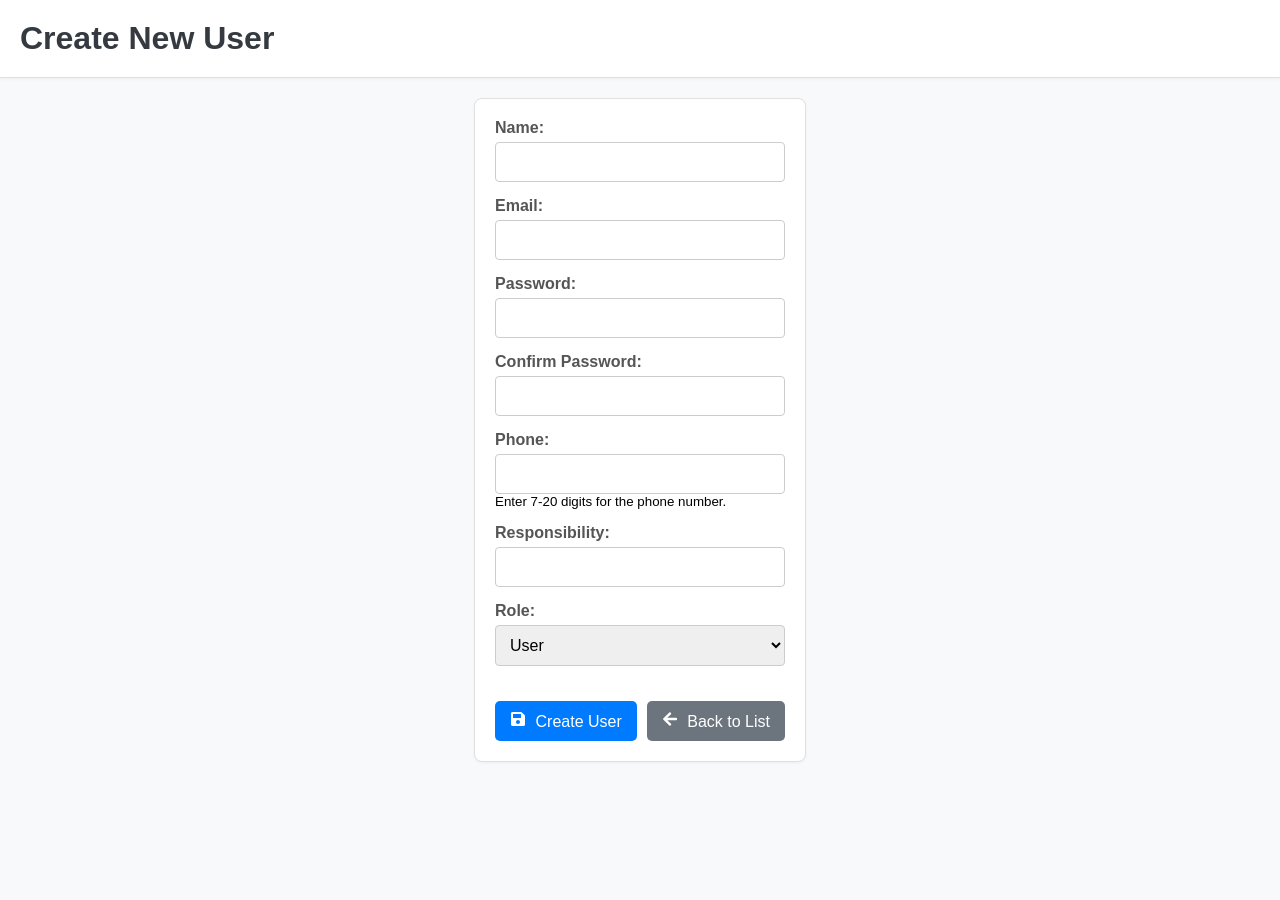
UserDetailPage › handles user creation
Type "New User" into the field labelled "Name:" at point(640, 162), box [495,142,785,182]
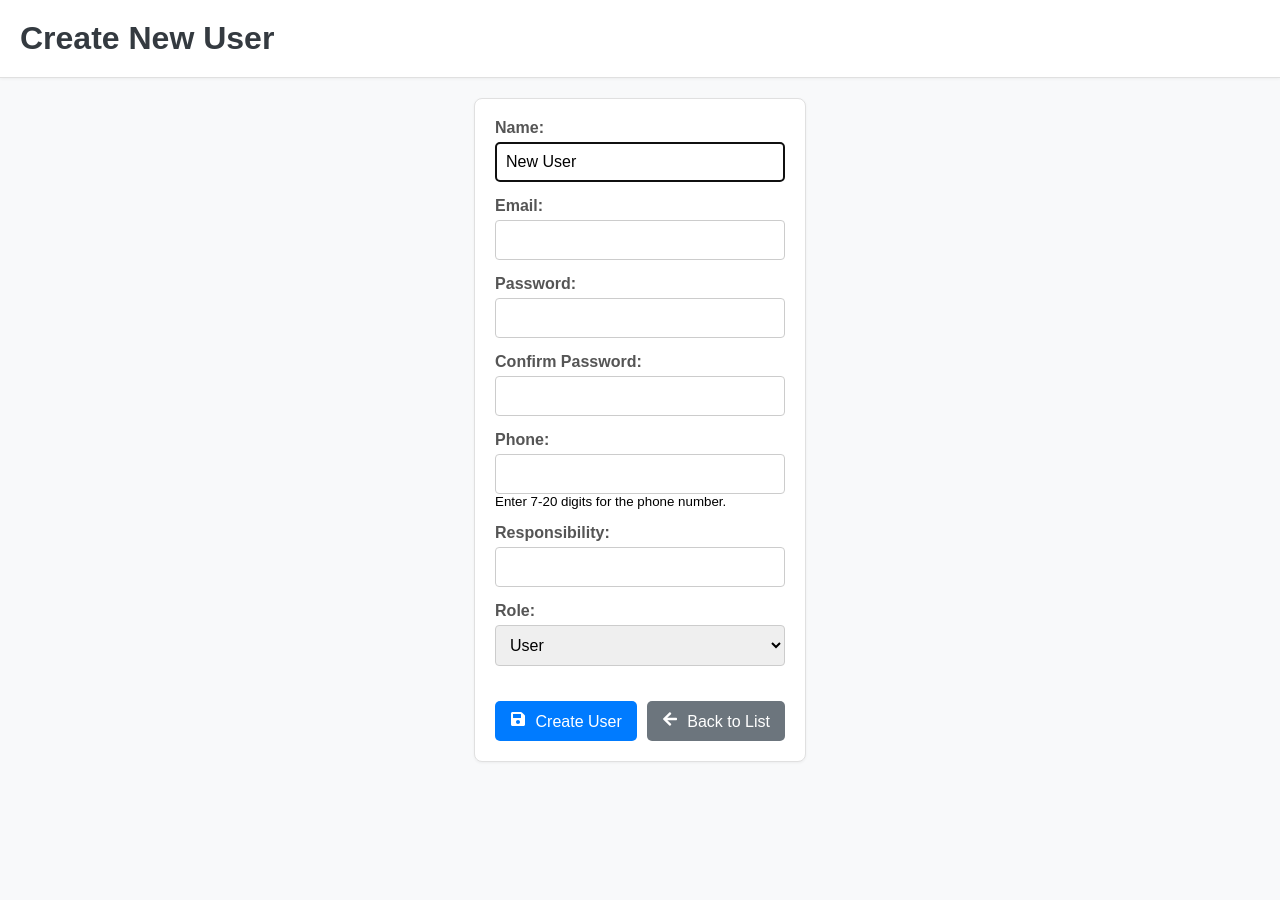
Type "new@example.com" into the field labelled "Email:" at point(640, 240), box [495,220,785,260]
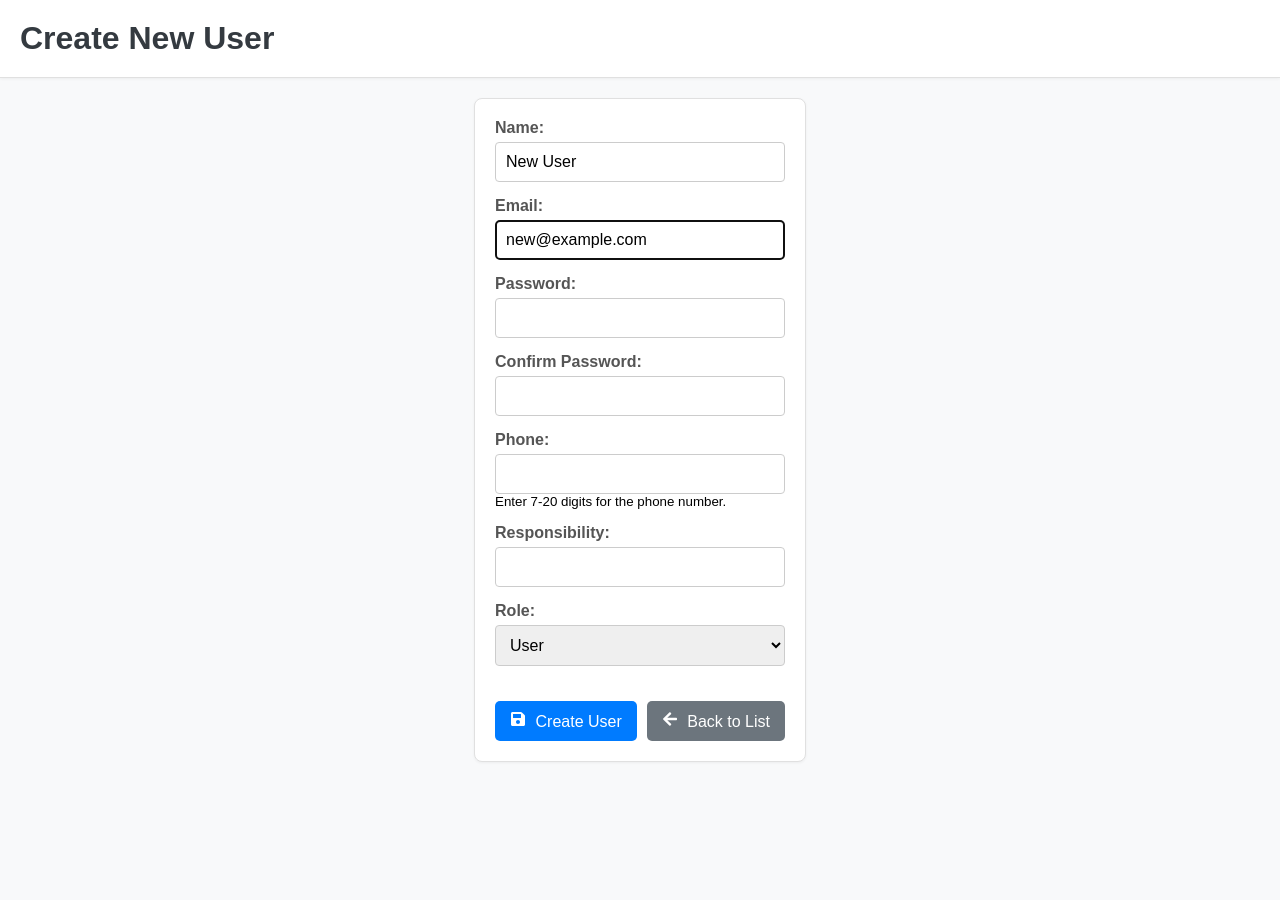
Type "password123" into the password field labelled "Password:" at point(640, 318), box [495,298,785,338]
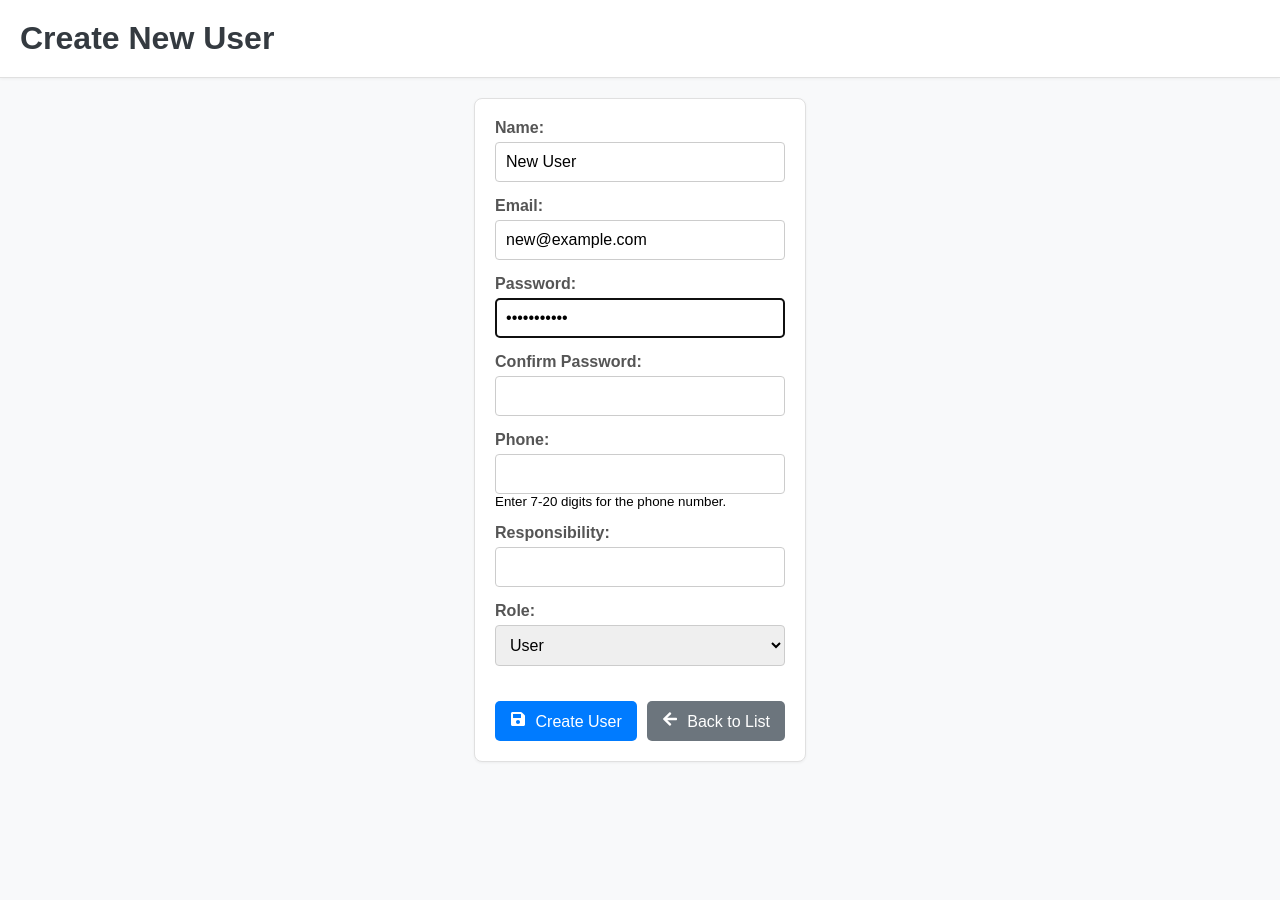
Type "password123" into the password field labelled "Confirm Password:" at point(640, 396), box [495,376,785,416]
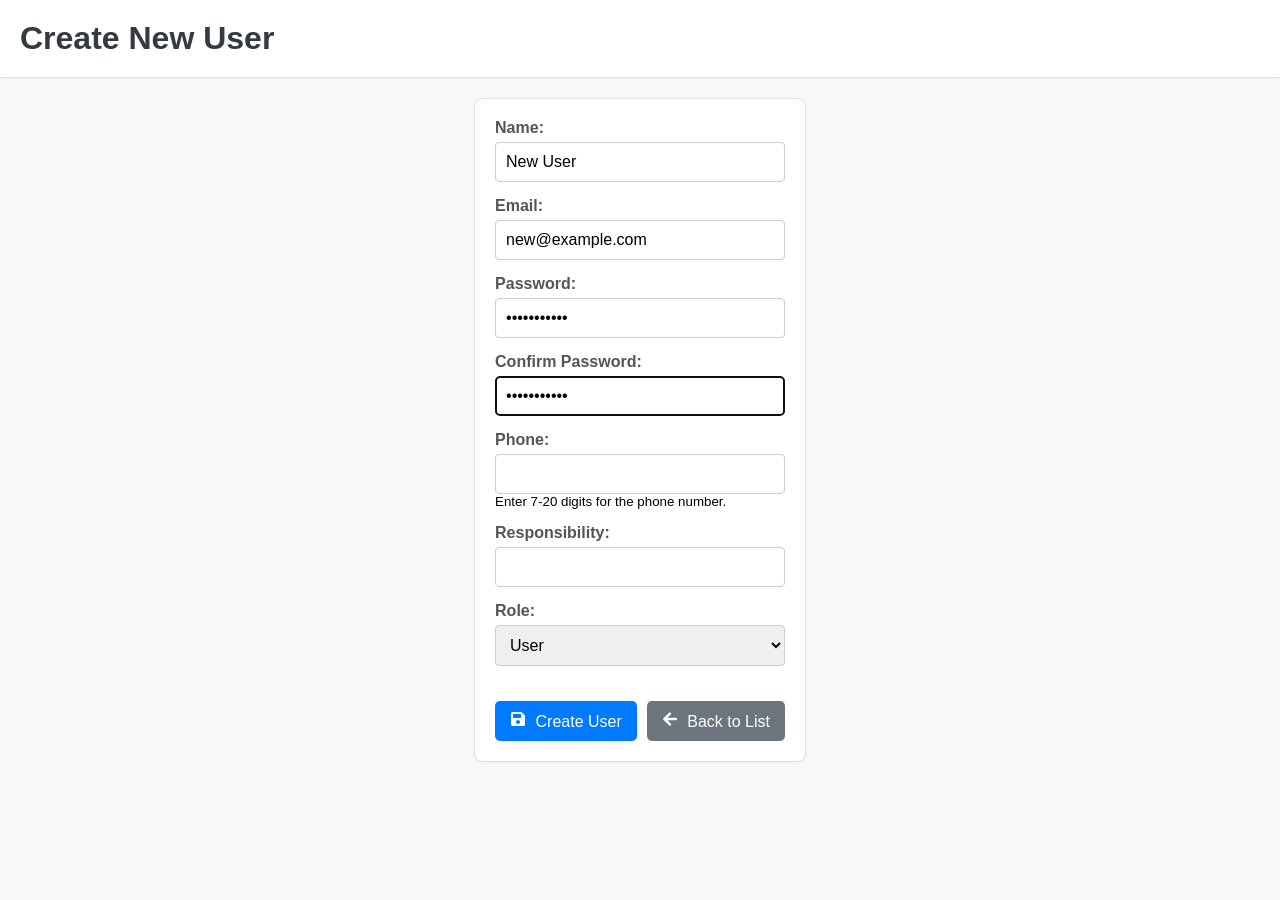
Type "Engineer" into the field labelled "Responsibility:" at point(640, 567), box [495,547,785,587]
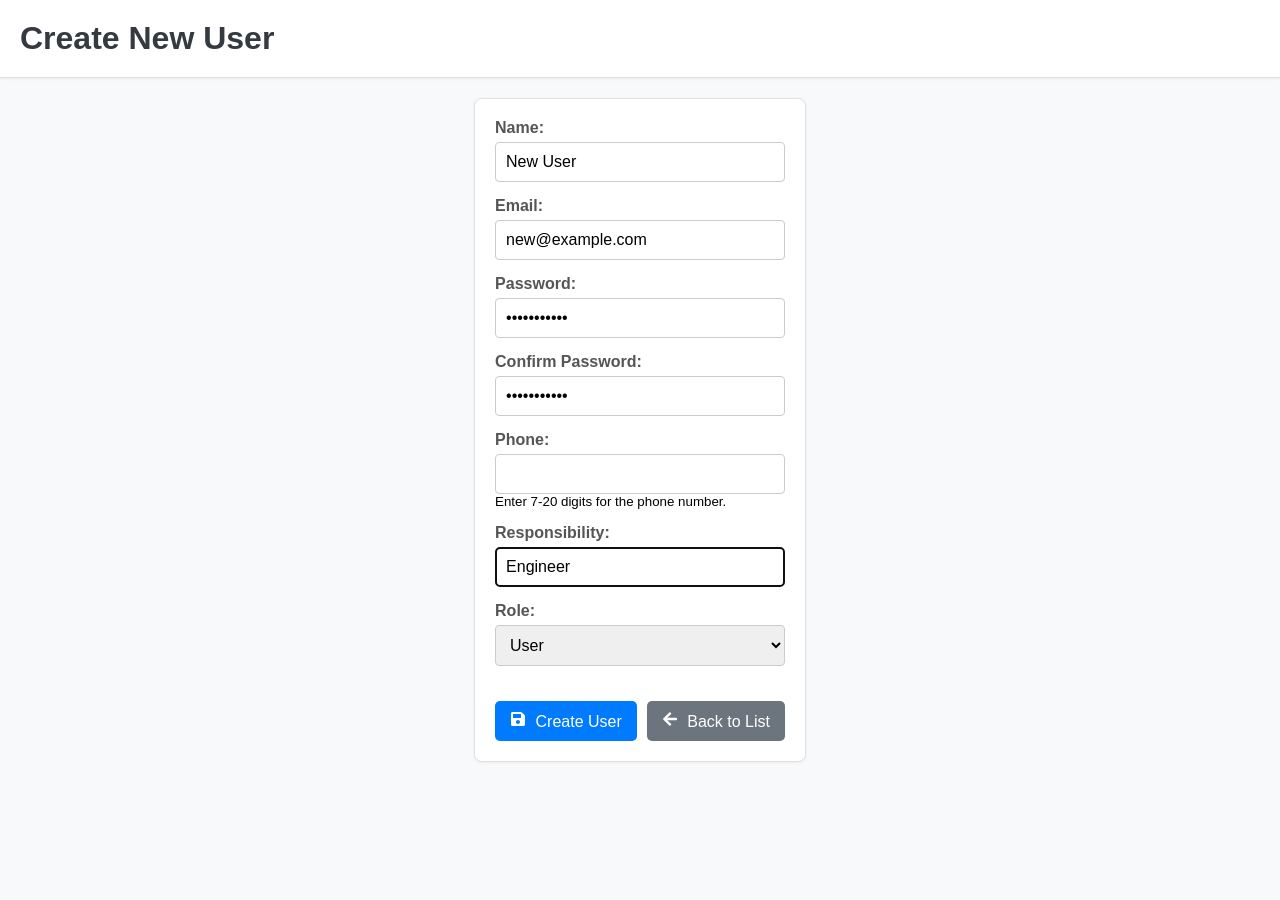
Click the button "Create User" at point(566, 721), box [495,701,637,741]
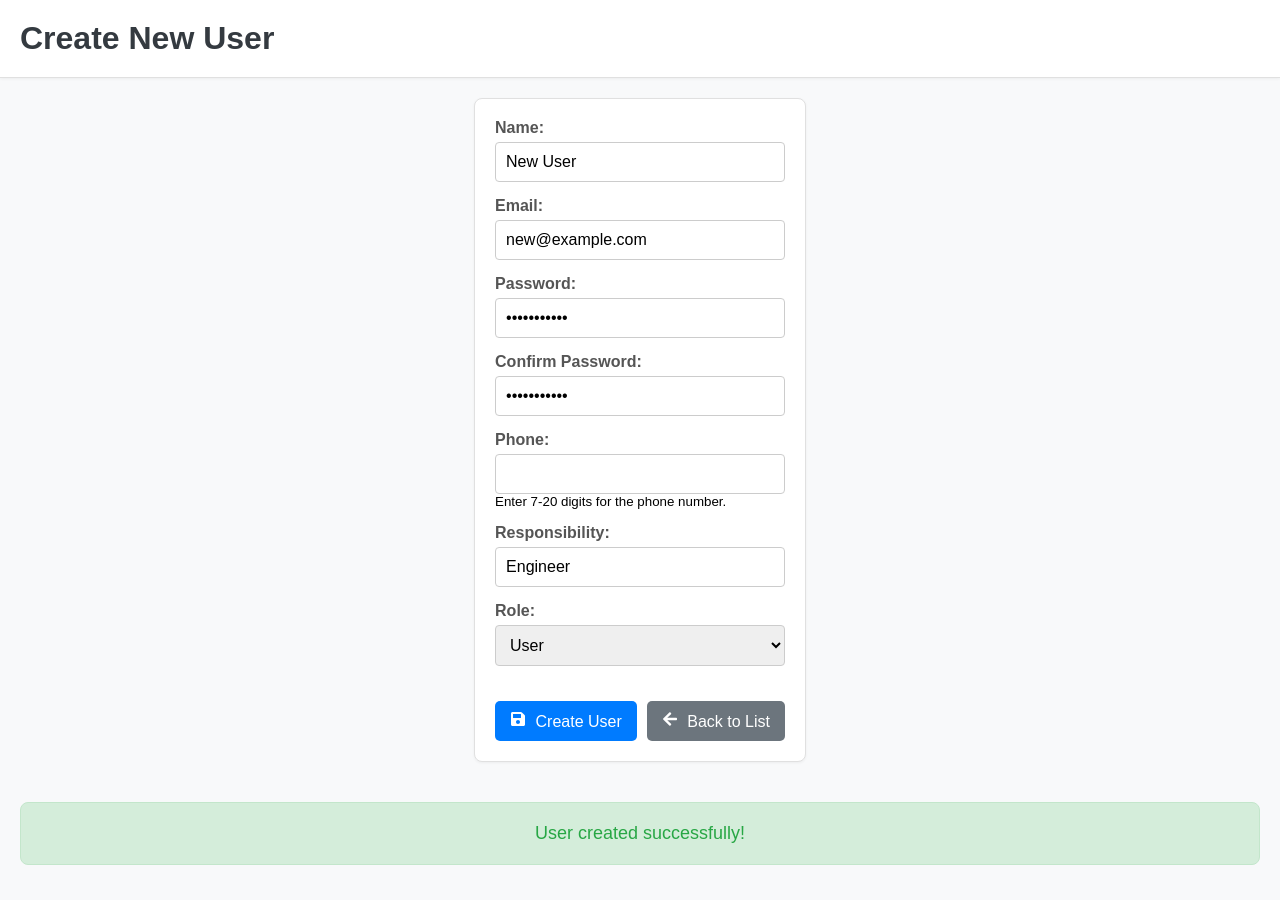
Expected: the text "User created successfully!" is shown, [20,802,1260,865]
